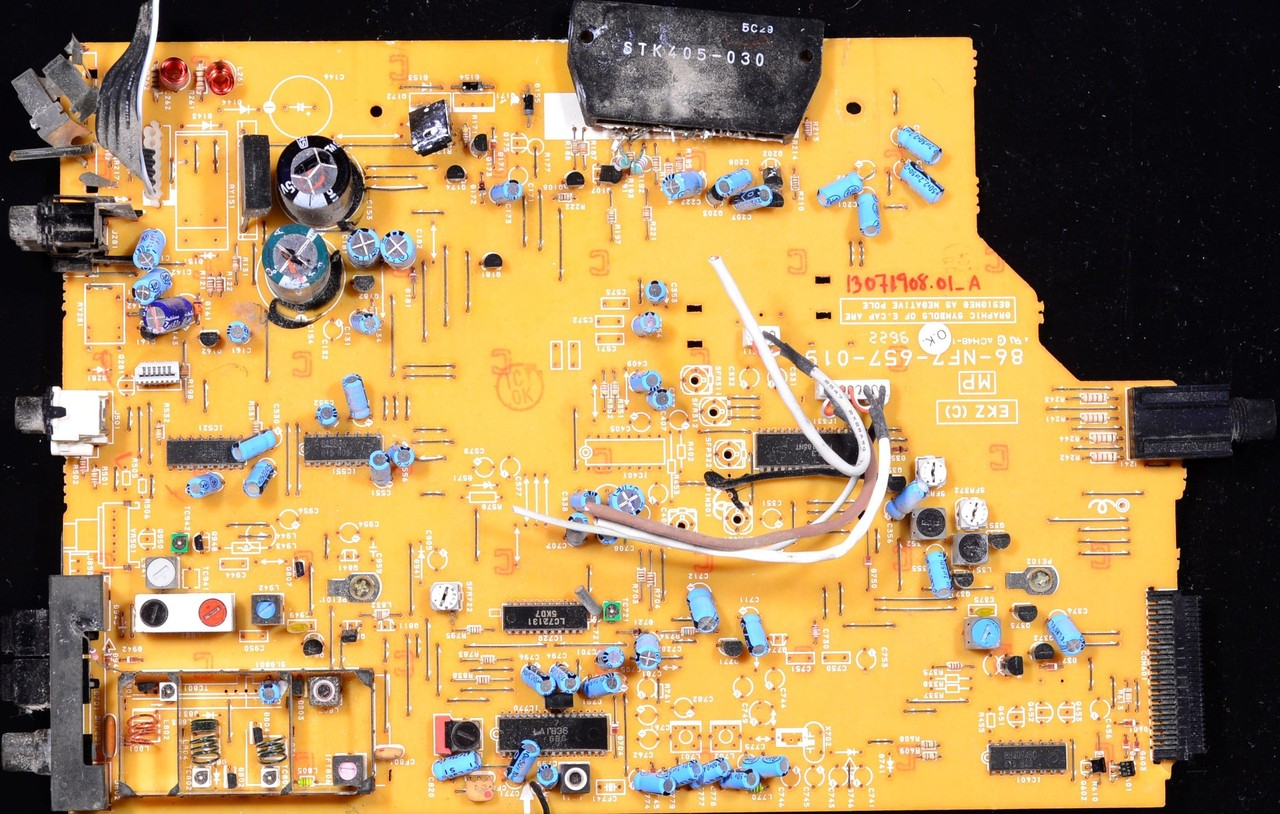Capacitor: (259, 224, 337, 303), (895, 162, 946, 213), (887, 119, 947, 161), (809, 171, 870, 210), (141, 294, 197, 336), (736, 608, 780, 660), (921, 546, 960, 603), (684, 579, 720, 638), (1046, 607, 1086, 655), (128, 269, 176, 309), (713, 162, 757, 205), (887, 478, 929, 523), (607, 478, 646, 524), (430, 752, 488, 782), (847, 191, 886, 235), (132, 221, 165, 272), (627, 630, 667, 672), (724, 763, 769, 798), (666, 166, 701, 210), (625, 771, 682, 798), (342, 368, 371, 421), (381, 219, 411, 270), (507, 742, 541, 786), (349, 227, 383, 271), (236, 425, 277, 461), (740, 185, 782, 220), (519, 660, 556, 699), (239, 459, 275, 498), (582, 671, 624, 704), (748, 747, 786, 783), (557, 511, 597, 544), (489, 176, 524, 213), (629, 307, 667, 340), (362, 449, 394, 488), (675, 757, 707, 796), (593, 514, 627, 550), (549, 659, 582, 696), (571, 481, 609, 513), (387, 438, 424, 470), (184, 467, 221, 499), (310, 398, 342, 433), (699, 757, 732, 790), (625, 365, 658, 397), (645, 275, 677, 306), (349, 309, 383, 336), (227, 315, 252, 347), (647, 384, 675, 412), (373, 742, 408, 763), (534, 764, 563, 788), (596, 648, 626, 670), (257, 679, 282, 704)
IC: (755, 425, 880, 481), (978, 736, 1080, 775), (500, 717, 618, 749), (501, 601, 587, 633)
Resistor: (1085, 448, 1120, 467), (1082, 430, 1119, 446), (1075, 391, 1109, 406), (1079, 412, 1113, 427), (631, 563, 651, 585), (610, 152, 632, 171), (633, 153, 651, 175), (458, 123, 474, 147), (476, 650, 498, 667), (228, 255, 246, 275), (88, 466, 103, 489), (553, 190, 576, 205), (462, 622, 482, 639), (76, 454, 91, 475), (1094, 747, 1106, 772), (919, 738, 940, 752), (658, 161, 674, 179), (918, 749, 940, 762), (251, 417, 262, 442), (471, 676, 492, 689), (649, 152, 662, 172), (152, 424, 166, 442), (605, 206, 618, 225), (646, 569, 657, 591), (215, 274, 226, 296), (639, 205, 654, 221), (205, 276, 217, 296), (568, 137, 580, 156), (579, 136, 590, 156), (945, 661, 964, 672)
Transistor/Diode: (277, 128, 343, 214)
